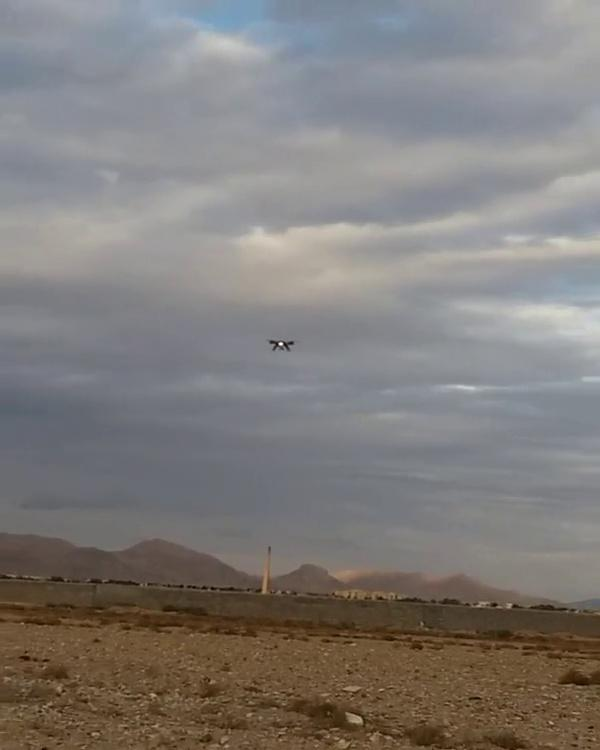drone: (261, 333, 299, 356)
